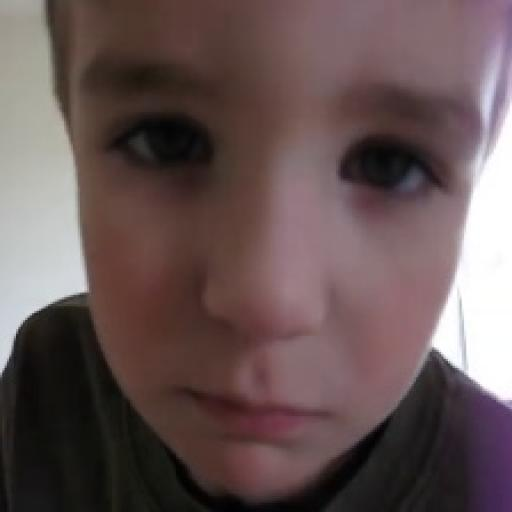Autism: (23, 10, 512, 481)
